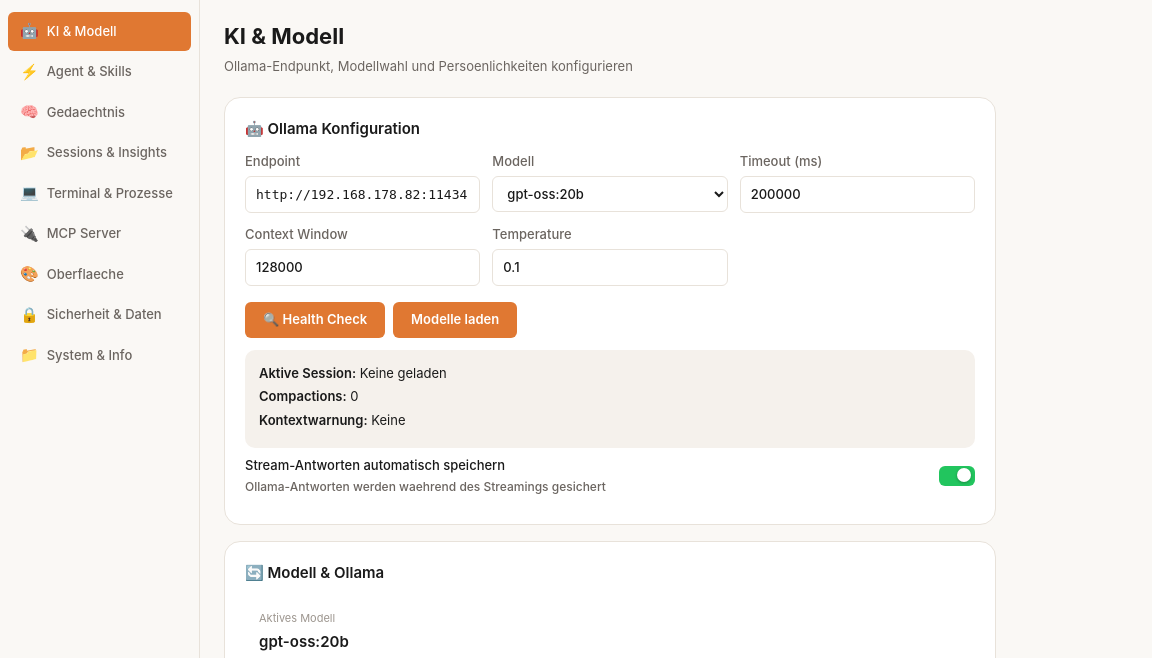
Scenario: SettingsView › switches to Agent & Skills when clicked
Step 1. Click the text "Agent & Skills" → coordinates (89, 72), box top-left (47, 62), bottom-right (132, 82)
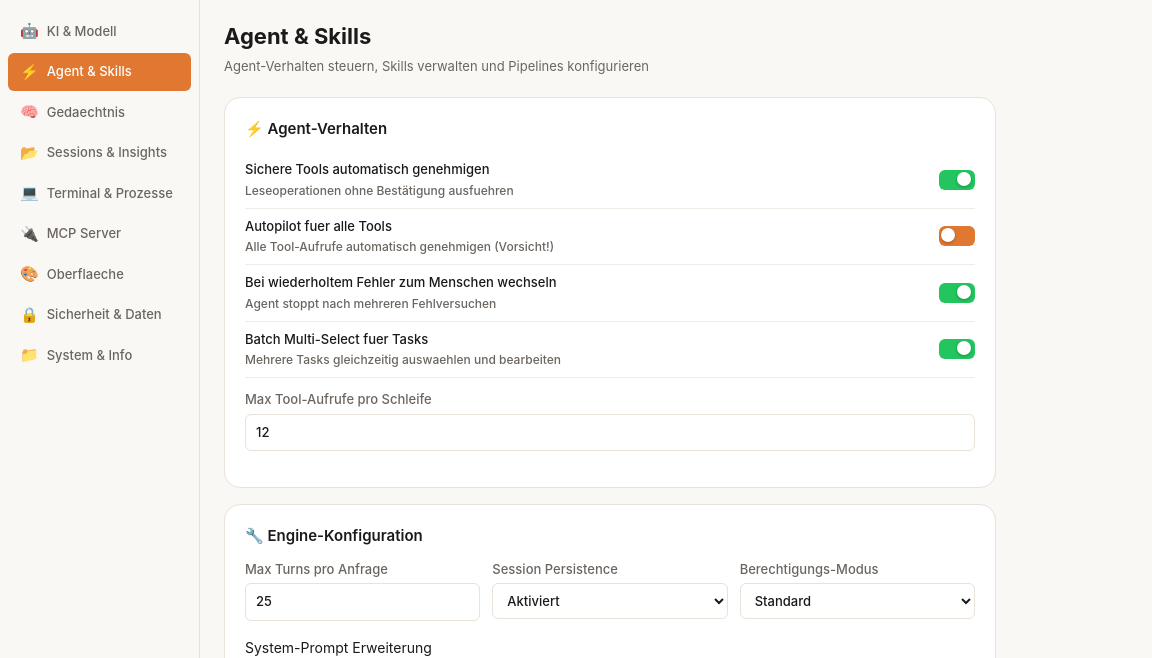
Expected: the heading "Agent & Skills" is shown, top-left (224, 23), bottom-right (371, 49)
